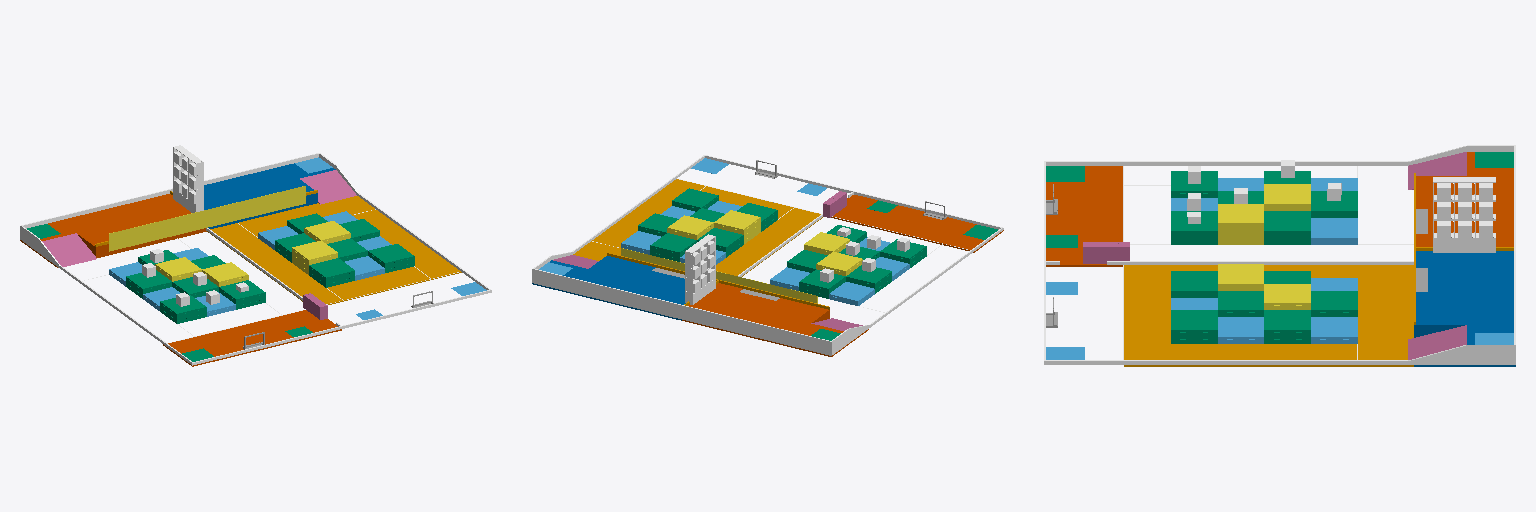
--- Facts derived from the render (not from the file) ---
Views: 3 orthographic renders of the robot side by side, from view 1: azimuth 30°, elevation 25°; view 2: azimuth 150°, elevation 25°; view 3: azimuth 270°, elevation 25°.
Model zwei with 31 links and 30 joints (30 fixed), rooted at base_link, posed all joints at 0.
Links seen in each view (by area): view 1: Link16, Link2, Link18, Link5, Link11, Link13, Link1, Link3, Link4, Link6, Link9, Link24 (+1 smaller); view 2: Link18, Link2, Link16, Link5, Link13, Link4, Link3, Link1, Link11, Link9, Link10, Link24 (+2 smaller); view 3: Link16, Link2, Link18, Link4, Link1, Link3, Link13, Link5, Link6, Link24, Link10, Link9 (+2 smaller).
Boxes of the visible links, bbox=[...] form: Link16: bbox=[207, 196, 461, 304]; Link2: bbox=[126, 213, 414, 323]; Link18: bbox=[20, 145, 491, 365]; Link5: bbox=[20, 194, 206, 267]; Link11: bbox=[109, 186, 305, 251]; Link13: bbox=[163, 310, 341, 366]; Link1: bbox=[109, 211, 391, 316]; Link3: bbox=[155, 221, 350, 286]; Link4: bbox=[204, 163, 335, 228]; Link6: bbox=[42, 170, 356, 266]; Link9: bbox=[295, 157, 486, 319]; Link24: bbox=[174, 151, 195, 203]; Link18: bbox=[532, 155, 1003, 355]; Link2: bbox=[638, 188, 926, 298]; Link16: bbox=[573, 179, 822, 276]; Link5: bbox=[682, 283, 868, 356]; Link13: bbox=[831, 195, 1003, 252]; Link4: bbox=[532, 256, 685, 320]; Link3: bbox=[667, 210, 862, 275]; Link1: bbox=[621, 201, 909, 305]; Link11: bbox=[621, 248, 817, 303]; Link9: bbox=[539, 158, 826, 275]; Link10: bbox=[811, 200, 997, 340]; Link24: bbox=[693, 241, 714, 292]; Link16: bbox=[1124, 265, 1413, 366]; Link2: bbox=[1171, 171, 1357, 343]; Link18: bbox=[1044, 145, 1515, 364]; Link4: bbox=[1414, 251, 1515, 366]; Link1: bbox=[1171, 178, 1357, 343]; Link3: bbox=[1218, 184, 1310, 309]; Link13: bbox=[1046, 166, 1122, 266]; Link5: bbox=[1416, 152, 1513, 246]; Link6: bbox=[1408, 152, 1466, 359]; Link24: bbox=[1437, 183, 1492, 238]; Link10: bbox=[1046, 152, 1513, 247]; Link9: bbox=[1046, 282, 1513, 359].
Bounding box of the posed robot: 12.15 × 12.1 × 2.47 m (x, y, z).
Meshes: 24 distinct files referenced, 23 mesh visuals loaded (16 binary STL, 5 Collada DAE); not drawn: 7 (reference not matched to a file when rendering).

robot.urdf — zwei:
<?xml version="1.0" encoding="utf-8"?>
<!-- This URDF was automatically created by SolidWorks to URDF Exporter! Originally created by Stephen Brawner ([email redacted]) 
     Commit Version: 1.6.0-1-g15f4949  Build Version: 1.6.7594.29634
     For more information, please see http://wiki.ros.org/sw_urdf_exporter -->
<robot
  name="zwei">
  <link
    name="base_link">
    <inertial>
      <origin
        xyz="6.025 7.59901863606395 0.159497471230316"
        rpy="0 0 0" />
      <mass
        value="32830.9811175371" />
      <inertia
        ixx="41297.6713371606"
        ixy="-2.50785933512626E-11"
        ixz="-7.99909194612046E-13"
        iyy="65334.3271755097"
        iyz="-266.198195272754"
        izz="105720.894307686" />
    </inertial>
    <visual>
      <origin
        xyz="0 0 0"
        rpy="0 0 0" />
      <!--<geometry>
        <mesh
          filename="package://zwei/meshes/base_link.STL" />
      </geometry>-->
      <!--<material
        name="">
        <color
          rgba="0.752941176470588 0.752941176470588 0.752941176470588 1" />
      </material>-->
    </visual>
    <collision>
      <origin
        xyz="0 0 0"
        rpy="0 0 0" />
      <!--<geometry>
        <mesh
          filename="package://zwei/meshes/base_link.STL" />
      </geometry>-->
    </collision>
  </link>
  <link
    name="Link1">
    <inertial>
      <origin
        xyz="3.025 0.0899299276190646 2.1"
        rpy="0 0 0" />
      <mass
        value="2300.00896" />
      <inertia
        ixx="283.290308175557"
        ixy="6.85401140947789E-15"
        ixz="1.6649606738741E-14"
        iyy="551.233941162667"
        iyz="3.39786615074972E-15"
        izz="283.290308175557" />
    </inertial>
    <visual>
      <origin
        xyz="0 0 0"
        rpy="0 0 0" />
      <geometry>
        <mesh
          filename="package://zwei/meshes/Link1.STL" />
      </geometry>
      <!--<material
        name="link1">
        <color
          rgba="0.16078431372549 0.32156862745098 0.0627450980392157 1" /> 
      </material>-->
    </visual>
    <collision>
      <origin
        xyz="0 0 0"
        rpy="0 0 0" />
      <geometry>
        <mesh
          filename="package://zwei/meshes/Link1.STL" />
      </geometry>
    </collision>
  </link>
  <joint
    name="ink1"
    type="fixed">
    <origin
      xyz="9.05 3.8 0.00980000000000023"
      rpy="1.5707963267949 0 3.14159265358979" />
    <parent
      link="base_link" />
    <child
      link="Link1" />
    <axis
      xyz="0 0 0" />
  </joint>
  <link
    name="Link2">
    <inertial>
      <origin
        xyz="4.225 0.189929927619065 1.6"
        rpy="0 0 0" />
      <mass
        value="6900.02688" />
      <inertia
        ixx="918.871193326671"
        ixy="-1.58382749771503E-14"
        ixz="-8.56900881089812E-15"
        iyy="1653.701823488"
        iyz="-3.38855738196597E-14"
        izz="918.87119332667" />
    </inertial>
    <visual>
      <origin
        xyz="0 0 0"
        rpy="0 0 0" />
      <geometry>
        <mesh
          filename="package://zwei/meshes/Link2.STL" />
      </geometry>
      <!--<material
        name="">
        <color
          rgba="0.164705882352941 0.443137254901961 0.219607843137255 1" />
      </material>-->
    </visual>
    <collision>
      <origin
        xyz="0 0 0"
        rpy="0 0 0" />
      <geometry>
        <mesh
          filename="package://zwei/meshes/Link2.STL" />
      </geometry>
    </collision>
  </link>
  <joint
    name="ink2"
    type="fixed">
    <origin
      xyz="10.25 3.8 0.00980000000000023"
      rpy="1.5707963267949 0 3.14159265358979" />
    <parent
      link="base_link" />
    <child
      link="Link2" />
    <axis
      xyz="0 0 0" />
  </joint>
  <link
    name="Link3">
    <inertial>
      <origin
        xyz="1.825 0.289929927619065 0.6"
        rpy="0 0 0" />
      <mass
        value="3450.01344" />
      <inertia
        ixx="516.935820663336"
        ixy="1.79481572017276E-15"
        ixz="4.28090451542323E-14"
        iyy="826.850911744001"
        iyz="-1.97300854240976E-14"
        izz="516.935820663336" />
    </inertial>
    <visual>
      <origin
        xyz="0 0 0"
        rpy="0 0 0" />
      <geometry>
        <mesh
          filename="package://zwei/meshes/Link3.STL" />
      </geometry>
      <!--<material
        name="">
        <color
          rgba="0.596078431372549 0.650980392156863 0.313725490196078 1" />
      </material>-->
    </visual>
    <collision>
      <origin
        xyz="0 0 0"
        rpy="0 0 0" />
      <geometry>
        <mesh
          filename="package://zwei/meshes/Link3.STL" />
      </geometry>
    </collision>
  </link>
  <joint
    name="ink3"
    type="fixed">
    <origin
      xyz="7.85 5 0.00980000000000031"
      rpy="1.5707963267949 0 3.14159265358979" />
    <parent
      link="base_link" />
    <child
      link="Link3" />
    <axis
      xyz="0 0 0" />
  </joint>
  
  <link
    name="Link4">
    <inertial>
      <origin
        xyz="-2.71653146810334 0.210989959593486 0.0575670380800792"
        rpy="0 0 0" />
      <mass
        value="6125.25" />
      <inertia
        ixx="3425.2331149175"
        ixy="-57.0341020647116"
        ixz="1249.75282895341"
        iyy="19504.160145407"
        iyz="-10.2293028728419"
        izz="16291.1884747545" />
    </inertial>
    <visual>
      <origin
        xyz="0 0 0"
        rpy="0 0 0" />
      <geometry>
        <mesh
          filename="package://zwei/meshes/Link4.STL" />
      </geometry>
      <!--<material
        name="">
        <color
          rgba="0.996078431372549 0.729411764705882 0.63921568627451 1" />
      </material>-->
    </visual>
    <collision>
      <origin
        xyz="0 0 0"
        rpy="0 0 0" />
      <geometry>
        <mesh
          filename="package://zwei/meshes/Link4.STL" />
      </geometry>
    </collision>
  </link>
  <joint
    name="ink4"
    type="fixed">
    <origin
      xyz="6.025 10.75 -0.0401999999999993"
      rpy="1.5707963267949 0 3.14159265358979" />
    <parent
      link="base_link" />
    <child
      link="Link4" />
    <axis
      xyz="0 0 0" />
  </joint>
  
  <link
    name="Link5">
    <inertial>
      <origin
        xyz="2.71653146810334 0.210989959593486 0.0575670380800783"
        rpy="0 0 0" />
      <mass
        value="6125.25" />
      <inertia
        ixx="3425.2331149175"
        ixy="57.0341020647116"
        ixz="-1249.75282895341"
        iyy="19504.160145407"
        iyz="-10.2293028728418"
        izz="16291.1884747545" />
    </inertial>
    <visual>
      <origin
        xyz="0 0 0"
        rpy="0 0 0" />
      <geometry>
        <mesh
          filename="package://zwei/meshes/Link5.STL" />
      </geometry>
      <!--<material
        name="">
        <color
          rgba="0.505882352941176 0.823529411764706 0.83921568627451 1" />
      </material>-->
    </visual>
    <collision>
      <origin
        xyz="0 0 0"
        rpy="0 0 0" />
      <geometry>
        <mesh
          filename="package://zwei/meshes/Link5.STL" />
      </geometry>
    </collision>
  </link>
  <joint
    name="ink5"
    type="fixed">
    <origin
      xyz="6.025 10.75 -0.0401999999999993"
      rpy="1.5707963267949 0 3.14159265358979" />
    <parent
      link="base_link" />
    <child
      link="Link5" />
    <axis
      xyz="0 0 0" />
  </joint>
  <link
    name="Link6">
    <inertial>
      <origin
        xyz="-4.525 0.123333333333334 -1"
        rpy="0 0 0" />
      <mass
        value="900" />
      <inertia
        ixx="120.5"
        ixy="-3.21502084214368E-14"
        ixz="-5.20417042793042E-15"
        iyy="281.25"
        iyz="15"
        izz="176.75" />
    </inertial>
    <visual>
      <origin
        xyz="0 0 0"
        rpy="0 0 0" />
      <geometry>
        <mesh
          filename="package://zwei/meshes/Link6.STL" />
      </geometry>
      <!--<material
        name="">
        <color
          rgba="0.752941176470588 0.741176470588235 0.713725490196078 1" />
      </material>-->
    </visual>
    <collision>
      <origin
        xyz="0 0 0"
        rpy="0 0 0" />
      <geometry>
        <mesh
          filename="package://zwei/meshes/Link6.STL" />
      </geometry>
    </collision>
  </link>
  <joint
    name="ink6"
    type="fixed">
    <origin
      xyz="10.55 9.3 0.00980000000000057"
      rpy="1.5707963267949 0 0" />
    <parent
      link="base_link" />
    <child
      link="Link6" />
    <axis
      xyz="0 0 0" />
  </joint>
  <link
    name="Link7">
    <inertial>
      <origin
        xyz="-1.775 -0.00990000000000002 8.88178419700125E-16"
        rpy="0 0 0" />
      <mass
        value="0.17999999999998" />
      <inertia
        ixx="0.00135000059999985"
        ixy="-1.37753244236987E-37"
        ixz="7.73252989416785E-19"
        iyy="0.0350999999999961"
        iyz="-8.27180612553027E-23"
        izz="0.0337500005999963" />
    </inertial>
    <visual>
      <origin
        xyz="0 0 0"
        rpy="0 0 0" />
      <geometry>
        <mesh
          filename="package://zwei/meshes/Link7.STL" />
      </geometry>
      <!--<material
        name="">
        <color
          rgba="1 1 0 1" />
      </material>-->
    </visual>
    <collision>
      <origin
        xyz="0 0 0"
        rpy="0 0 0" />
      <geometry>
        <mesh
          filename="package://zwei/meshes/Link7.STL" />
      </geometry>
    </collision>
  </link>
  <joint
    name="ink7"
    type="fixed">
    <origin
      xyz="4.25 9.65 0.409800000000001"
      rpy="1.5707963267949 0 3.14159265358979" />
    <parent
      link="base_link" />
    <child
      link="Link7" />
    <axis
      xyz="0 0 0" />
  </joint>
  <link
    name="Link8">
    <inertial>
      <origin
        xyz="-2.04979445341204E-14 0.0499999999999999 0.137990936555892"
        rpy="0 0 0" />
      <mass
        value="49.6499999999993" />
      <inertia
        ixx="0.247721073498422"
        ixy="4.37682485740497E-15"
        ixz="1.48671816970222E-14"
        iyy="309.047939823494"
        iyz="-3.24120087816394E-17"
        izz="308.882968749995" />
    </inertial>
    <visual>
      <origin
        xyz="0 0 0"
        rpy="0 0 0" />
      <geometry>
        <mesh
          filename="package://zwei/meshes/Link8.STL" />
      </geometry>
      <!--<material
        name="">
        <color
          rgba="0.392156862745098 0.243137254901961 0 1" />
      </material>-->
    </visual>
    <collision>
      <origin
        xyz="0 0 0"
        rpy="0 0 0" />
      <geometry>
        <mesh
          filename="package://zwei/meshes/Link8.STL" />
      </geometry>
    </collision>
  </link>
  <joint
    name="ink8"
    type="fixed">
    <origin
      xyz="6.025 9.45 0.399800000000001"
      rpy="1.5707963267949 0 3.14159265358979" />
    <parent
      link="base_link" />
    <child
      link="Link8" />
    <axis
      xyz="0 0 0" />
  </joint>
  <link
    name="Link9">
    <inertial>
      <origin
        xyz="0.993939393939435 -0.258384848484859 -6.85757575757604"
        rpy="0 0 0" />
      <mass
        value="0.527999999999978" />
      <inertia
        ixx="0.0401600017599982"
        ixy="1.76465197344646E-22"
        ixz="-2.56068314700523E-19"
        iyy="0.0803199999999963"
        iyz="8.82325986723231E-23"
        izz="0.0401600017599982" />
    </inertial>
    <visual>
      <origin
        xyz="0 0 0"
        rpy="0 0 0" />
      <geometry>
        <mesh
          filename="package://zwei/meshes/Link9.STL" />
      </geometry>
      <!--<material
        name="">
        <color
          rgba="0.874509803921569 0.133333333333333 0.133333333333333 1" />
      </material>-->
    </visual>
    <collision>
      <origin
        xyz="0 0 0"
        rpy="0 0 0" />
      <geometry>
        <mesh
          filename="package://zwei/meshes/Link9.STL" />
      </geometry>
    </collision>
  </link>
  <joint
    name="ink9"
    type="fixed">
    <origin
      xyz="11.55 11.5 0.409800000000001"
      rpy="1.5707963267949 0 3.14159265358979" />
    <parent
      link="base_link" />
    <child
      link="Link9" />
    <axis
      xyz="0 0 0" />
  </joint>
  <link
    name="Link10">
    <inertial>
      <origin
        xyz="-0.993939393939436 -0.258384848484859 -6.85757575757605"
        rpy="0 0 0" />
      <mass
        value="0.527999999999978" />
      <inertia
        ixx="0.0401600017599982"
        ixy="8.8232598672323E-23"
        ixz="5.26662047306559E-20"
        iyy="0.0803199999999964"
        iyz="4.59177480789956E-38"
        izz="0.0401600017599982" />
    </inertial>
    <visual>
      <origin
        xyz="0 0 0"
        rpy="0 0 0" />
      <geometry>
        <mesh
          filename="package://zwei/meshes/Link10.STL" />
      </geometry>
      <!--<material
        name="">
        <color
          rgba="0.196078431372549 0 1 1" />
      </material>-->
    </visual>
    <collision>
      <origin
        xyz="0 0 0"
        rpy="0 0 0" />
      <geometry>
        <mesh
          filename="package://zwei/meshes/Link10.STL" />
      </geometry>
    </collision>
  </link>
  <joint
    name="ink10"
    type="fixed">
    <origin
      xyz="0.500000000000001 11.5 0.409800000000001"
      rpy="1.5707963267949 0 3.14159265358979" />
    <parent
      link="base_link" />
    <child
      link="Link10" />
    <axis
      xyz="0 0 0" />
  </joint>
  <link
    name="Link11">
    <inertial>
      <origin
        xyz="1.77635683940025E-15 -0.00999999999999956 0.00499999999999989"
        rpy="0 0 0" />
      <mass
        value="55.9999999999988" />
      <inertia
        ixx="2.28713333333328"
        ixy="0"
        ixz="-3.34223389704858E-17"
        iyy="298.667133333327"
        iyz="1.65955212535108E-18"
        izz="300.953333333327" />
    </inertial>
    <visual>
      <origin
        xyz="0 0 0"
        rpy="0 0 0" />
      <geometry>
        <mesh
          filename="package://zwei/meshes/Link11.STL" />
      </geometry>
      <!--<material
        name="">
        <color
          rgba="1 1 1 0.35" />
      </material>-->
    </visual>
    <collision>
      <origin
        xyz="0 0 0"
        rpy="0 0 0" />
      <geometry>
        <mesh
          filename="package://zwei/meshes/Link11.STL" />
      </geometry>
    </collision>
  </link>
  <joint
    name="ink11"
    type="fixed">
    <origin
      xyz="6.025 9.44 0.4598"
      rpy="1.5707963267949 0 3.14159265358979" />
    <parent
      link="base_link" />
    <child
      link="Link11" />
    <axis
      xyz="0 0 0" />
  </joint>
  <link
    name="Link12">
    <inertial>
      <origin
        xyz="4.44089209850063E-16 0.015 0"
        rpy="0 0 0" />
      <mass
        value="622.6875" />
      <inertia
        ixx="218.200078125"
        ixy="-2.24820162486594E-16"
        ixz="2.67756708009307E-14"
        iyy="2133.12629882812"
        iyz="0"
        izz="1915.18567382812" />
    </inertial>
    <visual>
      <origin
        xyz="0 0 0"
        rpy="0 0 0" />
      <geometry>
        <mesh
          filename="package://zwei/meshes/Link12.STL" />
      </geometry>
      <!--<material
        name="">
        <color
          rgba="0.980392156862745 0.862745098039216 0.854901960784314 1" />
      </material>-->
    </visual>
    <collision>
      <origin
        xyz="0 0 0"
        rpy="0 0 0" />
      <geometry>
        <mesh
          filename="package://zwei/meshes/Link12.STL" />
      </geometry>
    </collision>
  </link>
  <joint
    name="ink12"
    type="fixed">
    <origin
      xyz="9.0625 0.975000000000001 -0.0401999999999999"
      rpy="1.5707963267949 0 3.14159265358979" />
    <parent
      link="base_link" />
    <child
      link="Link12" />
    <axis
      xyz="0 0 0" />
  </joint>
  <link
    name="Link13">
    <inertial>
      <origin
        xyz="-4.44089209850063E-16 0.015 0"
        rpy="0 0 0" />
      <mass
        value="622.6875" />
      <inertia
        ixx="218.200078125"
        ixy="2.24820162486594E-16"
        ixz="5.31179787655045E-14"
        iyy="2133.12629882812"
        iyz="0"
        izz="1915.18567382812" />
    </inertial>
    <visual>
      <origin
        xyz="0 0 0"
        rpy="0 0 0" />
      <geometry>
        <mesh
          filename="package://zwei/meshes/Link13.STL" />
      </geometry>
      <!--<material
        name="">
        <color
          rgba="0.501960784313725 0.780392156862745 0.886274509803922 1" />
      </material>-->



    </visual>
    <collision>
      <origin
        xyz="0 0 0"
        rpy="0 0 0" />
      <geometry>
        <mesh
          filename="package://zwei/meshes/Link13.STL" />
      </geometry>
    </collision>
  </link>
  <joint
    name="ink13"
    type="fixed">
    <origin
      xyz="2.9875 0.975000000000001 -0.0401999999999999"
      rpy="1.5707963267949 0 3.14159265358979" />
    <parent
      link="base_link" />
    <child
      link="Link13" />
    <axis
      xyz="0 0 0" />
  </joint>
  <link
    name="Link14">
    <inertial>
      <origin
        xyz="-7.52870263235695E-16 0.240006966611985 -8.88178419700125E-16"
        rpy="0 0 0" />
      <mass
        value="180.004750088092" />
      <inertia
        ixx="25.3508855513742"
        ixy="-3.23378061454737E-17"
        ixz="1.29896093881143E-15"
        iyy="22.9505541983194"
        iyz="4.82429167933145E-16"
        izz="5.10033137443016" />
    </inertial>
    <visual>
      <origin
        xyz="0 0 0"
        rpy="0 0 0" />
      <geometry>
        <mesh
          filename="package://zwei/meshes/Link14.STL" />
      </geometry>
      <!--<material
        name="">
        <color
          rgba="0.607843137254902 0.372549019607843 0 1" />
      </material>-->
    </visual>
    <collision>
      <origin
        xyz="0 0 0"
        rpy="0 0 0" />
      <geometry>
        <mesh
          filename="package://zwei/meshes/Link14.STL" />
      </geometry>
    </collision>
  </link>
  <joint
    name="ink14"
    type="fixed">
    <origin
      xyz="6.025 0.950000000000001 0.00980000000000006"
      rpy="1.5707963267949 0 3.14159265358979" />
    <parent
      link="base_link" />
    <child
      link="Link14" />
    <axis
      xyz="0 0 0" />
  </joint>
  <link
    name="Link15">
    <inertial>
      <origin
        xyz="3.425 0.139757217556369 0.0344546158415753"
        rpy="0 0 0" />
      <mass
        value="8.45683075417978" />
      <inertia
        ixx="0.239478557028983"
        ixy="5.93163905713724E-16"
        ixz="7.25348463254944E-17"
        iyy="0.929187431006892"
        iyz="0.00987857660056836"
        izz="1.11192107249195" />
    </inertial>
    <visual>
      <origin
        xyz="0 0 0"
        rpy="0 0 0" />
      <geometry>
        <mesh
          filename="package://zwei/meshes/Link15.STL" />
      </geometry>
      <!--<material
        name="">
        <color
          rgba="0.607843137254902 0.372549019607843 0 1" />
      </material>-->
    </visual>
    <collision>
      <origin
        xyz="0 0 0"
        rpy="0 0 0" />
      <geometry>
        <mesh
          filename="package://zwei/meshes/Link15.STL" />
      </geometry>
    </collision>
  </link>
  <joint
    name="ink15"
    type="fixed">
    <origin
      xyz="9.45 0.16 0.01"
      rpy="1.5707963267949 0 3.14159265358979" />
    <parent
      link="base_link" />
    <child
      link="Link15" />
    <axis
      xyz="0 0 0" />
  </joint>
  <link
    name="Link16">
    <inertial>
      <origin
        xyz="1.33226762955019E-15 0.015 -1.0547118733939E-15"
        rpy="0 0 0" />
      <mass
        value="2262.9375" />
      <inertia
        ixx="10467.028828125"
        ixy="8.99280649946375E-16"
        ixz="2.92266211232572E-13"
        iyy="17426.1509472656"
        iyz="0"
        izz="6960.06500976563" />
    </inertial>
    <visual>
      <origin
        xyz="0 0 0"
        rpy="0 0 0" />
      <geometry>
        <mesh
          filename="package://zwei/meshes/Link16.STL" />
      </geometry>
      <!--<material
        name="">
        <color
          rgba="0.925490196078431 0.635294117647059 0.592156862745098 1" />
      </material>-->
    </visual>
    <collision>
      <origin
        xyz="0 0 0"
        rpy="0 0 0" />
      <geometry>
        <mesh
          filename="package://zwei/meshes/Link16.STL" />
      </geometry>
    </collision>
  </link>
  <joint
    name="ink16"
    type="fixed">
    <origin
      xyz="9.0625 5.725 -0.0401999999999996"
      rpy="1.5707963267949 0 3.14159265358979" />
    <parent
      link="base_link" />
    <child
      link="Link16" />
    <axis
      xyz="0 0 0" />
  </joint>
  <link
    name="Link17">
    <inertial>
      <origin
        xyz="1.33226762955019E-15 0.015 -1.0547118733939E-15"
        rpy="0 0 0" />
      <mass
        value="2262.9375" />
      <inertia
        ixx="10467.028828125"
        ixy="8.99280649946375E-16"
        ixz="2.92266211232572E-13"
        iyy="17426.1509472656"
        iyz="0"
        izz="6960.06500976563" />
    </inertial>
    <visual>
      <origin
        xyz="0 0 0"
        rpy="0 0 0" />
      <geometry>
        <mesh
          filename="package://zwei/meshes/Link17.STL" />
      </geometry>
      <!--<material
        name="">
        <color
          rgba="0.501960784313725 0.749019607843137 0.819607843137255 1" />
      </material>-->
    </visual>
    <collision>
      <origin
        xyz="0 0 0"
        rpy="0 0 0" />
      <geometry>
        <mesh
          filename="package://zwei/meshes/Link17.STL" />
      </geometry>
    </collision>
  </link>
  <joint
    name="ink17"
    type="fixed">
    <origin
      xyz="2.9875 5.725 -0.0401999999999996"
      rpy="1.5707963267949 0 3.14159265358979" />
    <parent
      link="base_link" />
    <child
      link="Link17" />
    <axis
      xyz="0 0 0" />
  </joint>
  <link
    name="Link18">
    <inertial>
      <origin
        xyz="1.66558594613715E-14 -0.0099 1.67934782608699"
        rpy="0 0 0" />
      <mass
        value="0.13248" />
      <inertia
        ixx="0.0142290930130287"
        ixy="2.68703049839647E-21"
        ixz="-4.33116103491781E-16"
        iyy="0.323723828571425"
        iyz="2.76801097191775E-22"
        izz="0.309494736441596" />
    </inertial>
    <visual>
      <origin
        xyz="0 0 0"
        rpy="0 0 0" />
      <geometry>
        <mesh
          filename="package://zwei/meshes/Link18.STL" />
      </geometry>
      <material
        name="">
        <color
          rgba="1 1 1 1" />
      </material>
    </visual>
    <collision>
      <origin
        xyz="0 0 0"
        rpy="0 0 0" />
      <geometry>
        <mesh
          filename="package://zwei/meshes/Link18.STL" />
      </geometry>
    </collision>
  </link>
  <joint
    name="ink18"
    type="fixed">
    <origin
      xyz="6.025 1.97 0.00980000000000012"
      rpy="1.5707963267949 0 3.14159265358979" />
    <parent
      link="base_link" />
    <child
      link="Link18" />
    <axis
      xyz="0 0 0" />
  </joint>

  
  <link
    name="Link24">
    <inertial>
      <origin
        xyz="-2.97463700687495E-15 -0.365000000000022 0.539999999999988"
        rpy="0 0 0" />
      <mass
        value="385.875" />
      <inertia
        ixx="7.87828124999999"
        ixy="-1.9249671715797E-16"
        ixz="-4.24422845154635E-16"
        iyy="7.87828124999999"
        iyz="3.21162092559111E-16"
        izz="7.87828125" />
    </inertial>
    <visual>
      <origin
        xyz="0 0 0"
        rpy="0 0 0" />
      <geometry>
        <mesh
          filename="package://zwei/meshes/tictoc.dae" />
      </geometry>
      <material
        name="">
        <color
          rgba="1 1 1 1" />
      </material>
    </visual>
    <collision>
      <origin
        xyz="0 0 0"
        rpy="0 0 0" />
      <geometry>
        <mesh
          filename="package://zwei/meshes/Link24.STL" />
      </geometry>
    </collision>
  </link>
  <joint
    name="end"
    type="fixed">
    <origin
      xyz="6.025 10.21 1.1698"
      rpy="-1.5707963267949 0 0" />
    <parent
      link="base_link" />
    <child
      link="Link24" />
    <axis
      xyz="0 0 0" />
  </joint>
  <!-- 以下是自动生成的方块部分 -->
  <link name="Link25">
    <inertial>
      <origin xyz="0 0.165 0" rpy="0 0 0"/>
      <mass value="42.8749999999999"/>
      <inertia ixx="0.875364583333331" ixy="2.08253553291014E-17" ixz="2.08253553291015E-17" iyy="0.87536458333333" iyz="3.98899663300867E-17" izz="0.87536458333333"/>
    </inertial>
    <visual>
      <origin xyz="0 0 0" rpy="0 0 0"/>
      <geometry>
        <mesh filename="package://zwei/meshes/011.dae"/>
      </geometry>
      <material name="">
        <color rgba="1 1 1 1"/>
      </material>
    </visual>
    <collision>
      <origin xyz="0 0 0" rpy="0 0 0"/>
      <geometry>
        <mesh filename="package://zwei/meshes/Link25.STL"/>
      </geometry>
    </collision>
  </link>
  <joint name="25" type="fixed">
    <origin xyz="1.8 3.8 0.4098" rpy="1.5707963267949 0 0"/>
    <parent link="base_link"/>
    <child link="Link25"/>
    <axis xyz="0 0 0"/>
  </joint>
<link name="Link26">
    <inertial>
      <origin xyz="0 0.165 -4.44089209850063E-16" rpy="0 0 0"/>
      <mass value="42.875"/>
      <inertia ixx="0.875364583333331" ixy="5.86914776038772E-19" ixz="-2.01311768181315E-16" iyy="0.875364583333331" iyz="-5.86914776038792E-19" izz="0.875364583333332"/>
    </inertial>
    <visual>
      <origin xyz="0 0 0" rpy="0 0 0"/>
      <geometry>
        <mesh filename="package://zwei/meshes/021.dae"/>
      </geometry>
      <material name="">
        <color rgba="1 1 1 1"/>
      </material>
    </visual>
    <collision>
      <origin xyz="0 0 0" rpy="0 0 0"/>
      <geometry>
        <mesh filename="package://zwei/meshes/Link26.STL"/>
      </geometry>
    </collision>
  </link>
  <joint name="26" type="fixed">
    <origin xyz="3 3.8 0.2098" rpy="1.5707963267949 0 0"/>
    <parent link="base_link"/>
    <child link="Link26"/>
    <axis xyz="0 0 0"/>
  </joint>
<link name="Link27">
    <inertial>
      <origin xyz="0 0.175 0" rpy="0 0 0"/>
      <mass value="42.8749999999999"/>
      <inertia ixx="0.875364583333331" ixy="4.60222138176646E-17" ixz="4.61436444609835E-18" iyy="0.875364583333331" iyz="-5.86914776038796E-19" izz="0.875364583333331"/>
    </inertial>
    <visual>
      <origin xyz="0 0 0" rpy="0 0 0"/>
      <geometry>
        <mesh filename="package://zwei/meshes/r2.dae"/>
      </geometry>
      <material name="">
        <color rgba="1 1 1 1"/>
      </material>
    </visual>
    <collision>
      <origin xyz="0 0 0" rpy="0 0 0"/>
      <geometry>
        <mesh filename="package://zwei/meshes/Link27.STL"/>
      </geometry>
    </collision>
  </link>
  <joint name="27" type="fixed">
    <origin xyz="4.2 3.8 0.399800000000001" rpy="1.5707963267949 0 0"/>
    <parent link="base_link"/>
    <child link="Link27"/>
    <axis xyz="0 0 0"/>
  </joint>
<link name="Link29">
    <inertial>
      <origin xyz="1.11022302462516E-16 0.165 1.11022302462516E-16" rpy="0 0 0"/>
      <mass value="42.875"/>
      <inertia ixx="0.875364583333333" ixy="1.81208838190243E-18" ixz="8.00444944262377E-17" iyy="0.875364583333333" iyz="2.01902317758063E-16" izz="0.875364583333334"/>
    </inertial>
    <visual>
      <origin xyz="0 0 0" rpy="0 0 0"/>
      <geometry>
        <mesh filename="package://zwei/meshes/r2.dae"/>
      </geometry>
      <material name="">
        <color rgba="1 1 1 1"/>
      </material>
    </visual>
    <collision>
      <origin xyz="0 0 0" rpy="0 0 0"/>
      <geometry>
        <mesh filename="package://zwei/meshes/Link29.STL"/>
      </geometry>
    </collision>
  </link>
  <joint name="29" type="fixed">
    <origin xyz="3.165 5 0.5748" rpy="1.5707963267949 -1.5707963267949 0"/>
    <parent link="base_link"/>
    <child link="Link29"/>
    <axis xyz="0 0 0"/>
  </joint>
<link name="Link30">
    <inertial>
      <origin xyz="1.11022302462516E-16 0.175 1.11022302462516E-16" rpy="0 0 0"/>
      <mass value="42.875"/>
      <inertia ixx="0.875364583333333" ixy="2.99435207506599E-17" ixz="-3.62374896154395E-17" iyy="0.875364583333333" iyz="8.96032588172275E-17" izz="0.875364583333332"/>
    </inertial>
    <visual>
      <origin xyz="0 0 0" rpy="0 0 0"/>
      <geometry>
        <mesh filename="package://zwei/meshes/fade3.dae"/>
      </geometry>
      <material name="">
        <color rgba="1 1 1 1"/>
      </material>
    </visual>
    <collision>
      <origin xyz="0 0 0" rpy="0 0 0"/>
      <geometry>
        <mesh filename="package://zwei/meshes/Link30.STL"/>
      </geometry>
    </collision>
  </link>
  <joint name="30" type="fixed">
    <origin xyz="4.025 5 0.7748" rpy="1.5707963267949 1.5707963267949 0"/>
    <parent link="base_link"/>
    <child link="Link30"/>
    <axis xyz="0 0 0"/>
  </joint>
<link name="Link31">
    <inertial>
      <origin xyz="0 0.165 8.32667268468867E-17" rpy="0 0 0"/>
      <mass value="42.875"/>
      <inertia ixx="0.875364583333332" ixy="5.86914776038744E-19" ixz="2.17968004756486E-17" iyy="0.875364583333331" iyz="-5.86914776038851E-19" izz="0.875364583333331"/>
    </inertial>
    <visual>
      <origin xyz="0 0 0" rpy="0 0 0"/>
      <geometry>
        <mesh filename="package://zwei/meshes/r1.dae"/>
      </geometry>
      <material name="">
        <color rgba="1 1 1 1"/>
      </material>
    </visual>
    <collision>
      <origin xyz="0 0 0" rpy="0 0 0"/>
      <geometry>
        <mesh filename="package://zwei/meshes/Link31.STL"/>
      </geometry>
    </collision>
  </link>
  <joint name="31" type="fixed">
    <origin xyz="1.8 6.2 0.7398" rpy="-1.5707963267949 0 3.14159265358979"/>
    <parent link="base_link"/>
    <child link="Link31"/>
    <axis xyz="0 0 0"/>
  </joint>
<link name="Link32">
    <inertial>
      <origin xyz="-4.44089209850063E-16 0.175 1.11022302462516E-16" rpy="0 0 0"/>
      <mass value="42.875"/>
      <inertia ixx="0.875364583333333" ixy="-2.46099437125244E-17" ixz="-1.23616394898107E-16" iyy="0.875364583333333" iyz="8.03668474362121E-17" izz="0.875364583333333"/>
    </inertial>
    <visual>
      <origin xyz="0 0 0" rpy="0 0 0"/>
      <geometry>
        <mesh filename="package://zwei/meshes/fade3.dae"/>
      </geometry>
      <material name="">
        <color rgba="1 1 1 1"/>
      </material>
    </visual>
    <collision>
      <origin xyz="0 0 0" rpy="0 0 0"/>
      <geometry>
        <mesh filename="package://zwei/meshes/Link32.STL"/>
      </geometry>
    </collision>
  </link>
  <joint name="32" type="fixed">
    <origin xyz="3 6.2 0.9498" rpy="-1.5707963267949 0 3.14159265358979"/>
    <parent link="base_link"/>
    <child link="Link32"/>
    <axis xyz="0 0 0"/>
  </joint>
<link name="Link33">
    <inertial>
      <origin xyz="0 0.175 8.32667268468867E-17" rpy="0 0 0"/>
      <mass value="42.875"/>
      <inertia ixx="0.875364583333333" ixy="7.6323204737287E-18" ixz="2.35643952628183E-18" iyy="0.875364583333333" iyz="3.6920519972462E-17" izz="0.875364583333333"/>
    </inertial>
    <visual>
      <origin xyz="0 0 0" rpy="0 0 0"/>
      <geometry>
        <mesh filename="package://zwei/meshes/fade3.dae"/>
      </geometry>
      <material name="">
        <color rgba="1 1 1 1"/>
      </material>
    </visual>
    <collision>
      <origin xyz="0 0 0" rpy="0 0 0"/>
      <geometry>
        <mesh filename="package://zwei/meshes/Link33.STL"/>
      </geometry>
    </collision>
  </link>
  <joint name="33" type="fixed">
    <origin xyz="4.375 6.2 0.5748" rpy="1.5707963267949 -1.5707963267949 0"/>
    <parent link="base_link"/>
    <child link="Link33"/>
    <axis xyz="0 0 0"/>
  </joint>
<link name="Link34">
    <inertial>
      <origin xyz="0 0.175 0" rpy="0 0 0"/>
      <mass value="42.875"/>
      <inertia ixx="0.875364583333332" ixy="-1.46931078415236E-17" ixz="1.38349979620737E-16" iyy="0.875364583333331" iyz="1.9651525777024E-17" izz="0.875364583333331"/>
    </inertial>
    <visual>
      <origin xyz="0 0 0" rpy="0 0 0"/>
      <geometry>
        <mesh filename="package://zwei/meshes/fade3.dae"/>
      </geometry>
      <material name="">
        <color rgba="1 1 1 1"/>
      </material>
    </visual>
    <collision>
      <origin xyz="0 0 0" rpy="0 0 0"/>
      <geometry>
        <mesh filename="package://zwei/meshes/Link34.STL"/>
      </geometry>
    </collision>
  </link>
  <joint name="34" type="fixed">
    <origin xyz="1.8 7.4 0.199800000000001" rpy="1.5707963267949 0 0"/>
    <parent link="base_link"/>
    <child link="Link34"/>
    <axis xyz="0 0 0"/>
  </joint>
<link name="Link35">
    <inertial>
      <origin xyz="-1.11022302462516E-16 0.175 0" rpy="0 0 0"/>
      <mass value="42.875"/>
      <inertia ixx="0.875364583333333" ixy="1.18052701877353E-16" ixz="-3.83989045164059E-17" iyy="0.875364583333333" iyz="-7.15730675387921E-17" izz="0.875364583333334"/>
    </inertial>
    <visual>
      <origin xyz="0 0 0" rpy="0 0 0"/>
      <geometry>
        <mesh filename="package://zwei/meshes/r2.dae"/>
      </geometry>
      <material name="">
        <color rgba="1 1 1 1"/>
      </material>
    </visual>
    <collision>
      <origin xyz="0 0 0" rpy="0 0 0"/>
      <geometry>
        <mesh filename="package://zwei/meshes/Link35.STL"/>
      </geometry>
    </collision>
  </link>
  <joint name="35" type="fixed">
    <origin xyz="2.825 7.4 0.5748" rpy="1.5707963267949 1.5707963267949 0"/>
    <parent link="base_link"/>
    <child link="Link35"/>
    <axis xyz="0 0 0"/>
  </joint>
<link name="Link36">
    <inertial>
      <origin xyz="0 0.175 0" rpy="0 0 0"/>
      <mass value="42.875"/>
      <inertia ixx="0.875364583333333" ixy="-8.03668474362122E-17" ixz="-6.2354635343986E-17" iyy="0.875364583333334" iyz="1.96515257770239E-17" izz="0.875364583333334"/>
    </inertial>
    <visual>
      <origin xyz="0 0 0" rpy="0 0 0"/>
      <geometry>
        <mesh filename="package://zwei/meshes/fade3.dae"/>
      </geometry>
      <material name="">
        <color rgba="1 1 1 1"/>
      </material>
    </visual>
    <collision>
      <origin xyz="0 0 0" rpy="0 0 0"/>
      <geometry>
        <mesh filename="package://zwei/meshes/Link36.STL"/>
      </geometry>
    </collision>
  </link>
  <joint name="36" type="fixed">
    <origin xyz="4.2 7.4 0.549800000000001" rpy="-1.5707963267949 0 3.14159265358979"/>
    <parent link="base_link"/>
    <child link="Link36"/>
    <axis xyz="0 0 0"/>
  </joint>
</robot>
